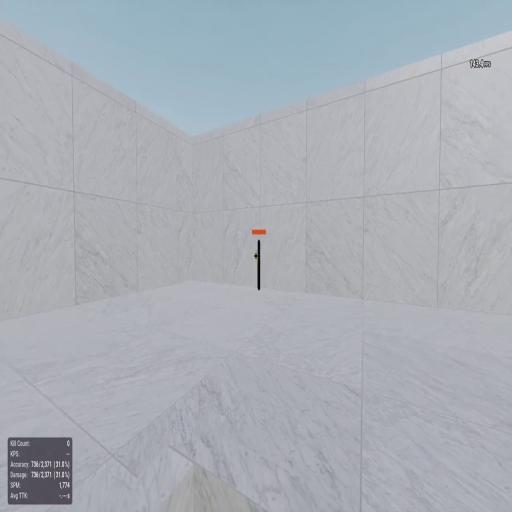Crosshair: (254, 252, 258, 260)
Target: (258, 240, 260, 291)
